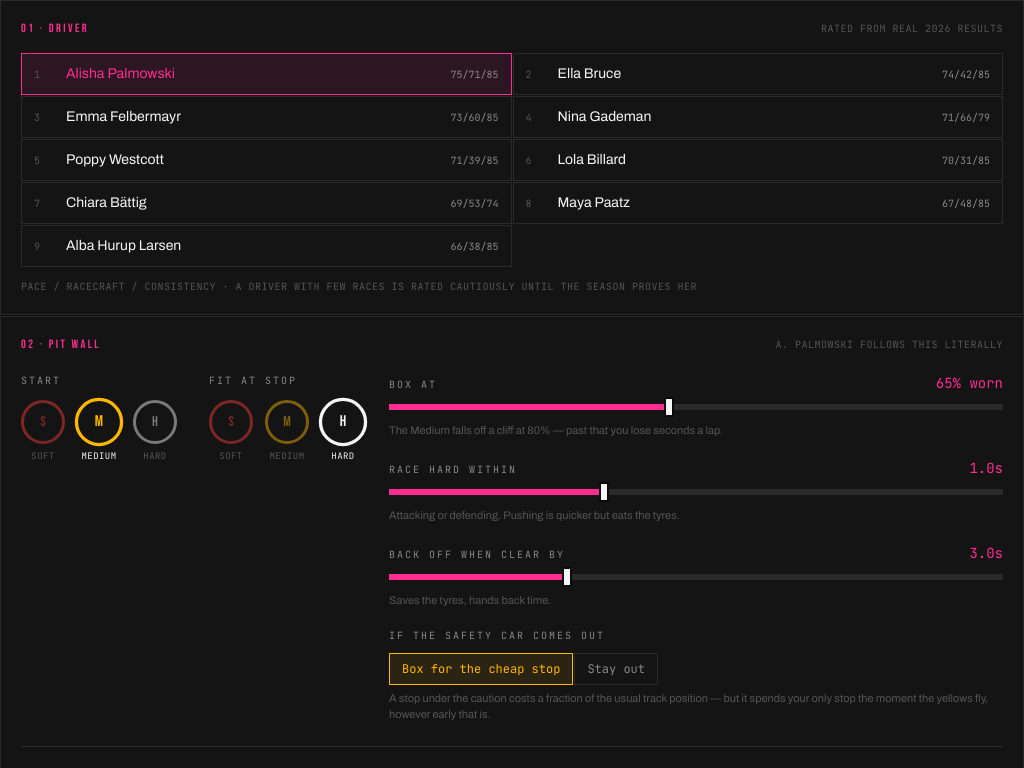
Test: QuickRace — the pit wall › lets the player pick a driver, and says who is following the plan
The width and height of the screenshot is (1024, 768).
Click the button "3 Emma Felbermayr 73/60/85" at {"x": 123, "y": 116}, box [21,96,512,138]
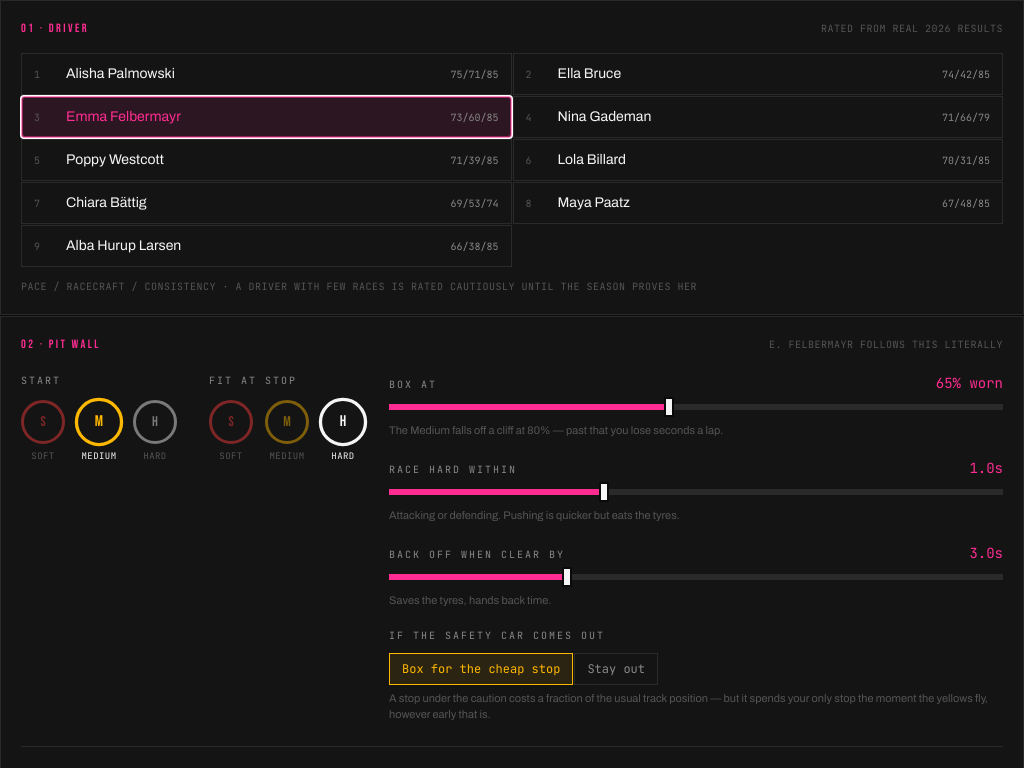
Expected: the text "E. Felbermayr follows this literally" is shown, [769,337,1003,352]
